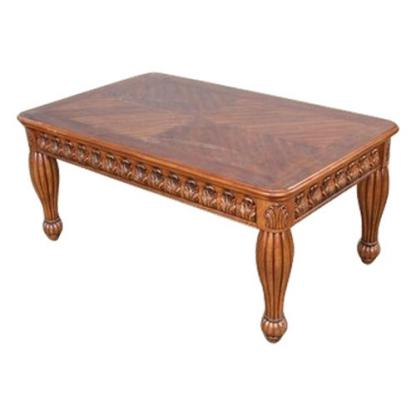table: (18, 69, 400, 339)
